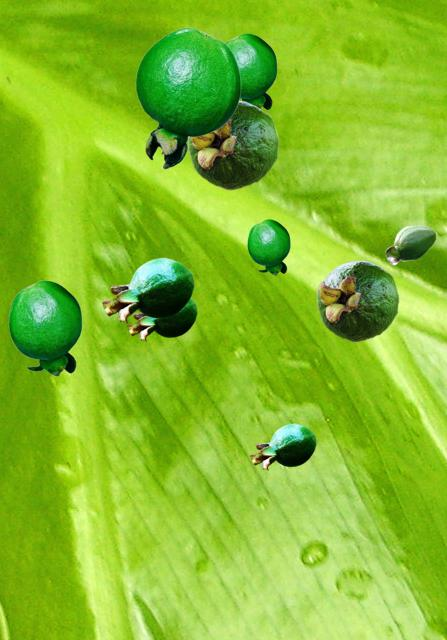guava: (135, 27, 240, 168), (188, 100, 278, 189), (8, 280, 81, 375), (316, 260, 398, 341), (102, 257, 193, 322), (225, 33, 276, 110), (250, 423, 315, 469), (127, 298, 196, 340), (247, 219, 289, 274), (385, 225, 436, 264)
